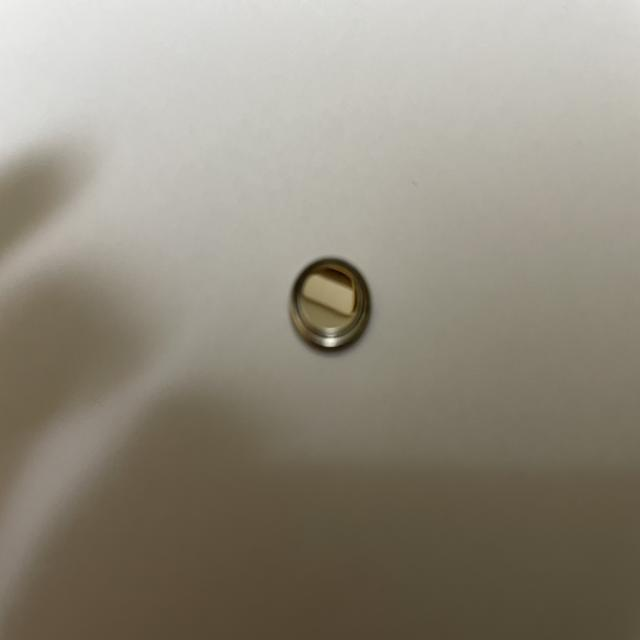COIN: (287, 253, 372, 354)
